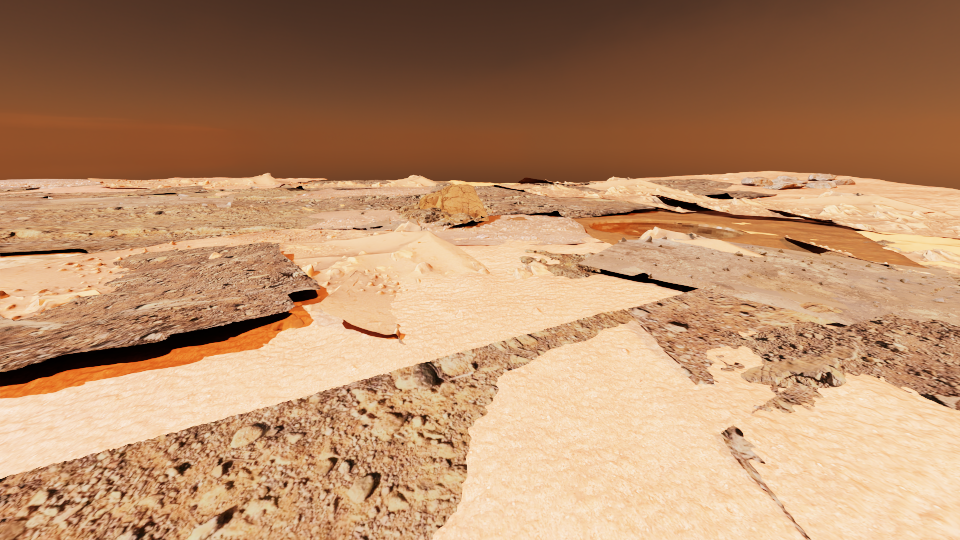bedrock: (519, 236, 959, 410), (0, 242, 319, 371), (277, 182, 654, 240), (0, 214, 297, 242), (0, 192, 296, 210), (648, 179, 776, 198), (0, 180, 100, 191), (534, 183, 605, 192), (136, 185, 208, 192), (572, 198, 645, 204), (0, 192, 39, 197), (305, 181, 338, 185), (348, 180, 390, 183), (278, 185, 294, 188), (296, 193, 315, 195)
hole: (589, 220, 743, 237)
rocks: (419, 184, 487, 217), (741, 173, 855, 189)
sand: (0, 239, 684, 478), (433, 320, 959, 539), (638, 171, 959, 211), (849, 227, 959, 254), (0, 249, 88, 268), (689, 211, 820, 222), (0, 185, 144, 193), (159, 177, 242, 181), (434, 180, 497, 185), (918, 261, 959, 268), (276, 178, 325, 182), (253, 183, 285, 188), (823, 322, 846, 328), (204, 186, 250, 189), (738, 330, 755, 336), (683, 285, 698, 291), (707, 195, 733, 198), (215, 192, 238, 195), (292, 300, 301, 305)
soil: (0, 289, 778, 539), (0, 181, 435, 315), (502, 179, 959, 276), (720, 425, 811, 539), (336, 264, 435, 300), (751, 382, 823, 413), (288, 287, 333, 312), (489, 213, 565, 225), (433, 232, 507, 244), (100, 179, 193, 188), (647, 188, 685, 201), (258, 314, 285, 330), (389, 321, 405, 344), (652, 228, 682, 238), (0, 179, 97, 182), (720, 360, 744, 370), (2, 203, 52, 207), (398, 222, 419, 231), (356, 260, 374, 270), (928, 287, 944, 294), (939, 259, 959, 264), (831, 191, 851, 195)
